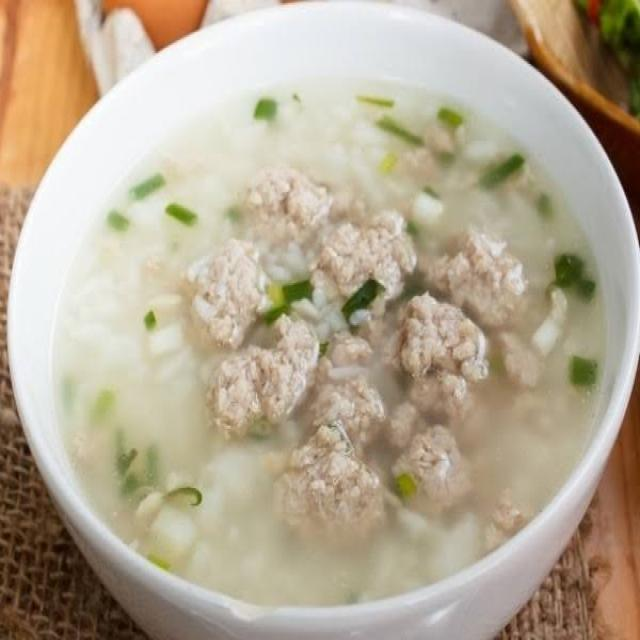carb: (182, 468, 445, 602), (64, 207, 176, 500)
meat: (250, 192, 493, 498)
rice porridge: (25, 16, 604, 605)
vegetable: (348, 272, 393, 336), (549, 231, 579, 297)
